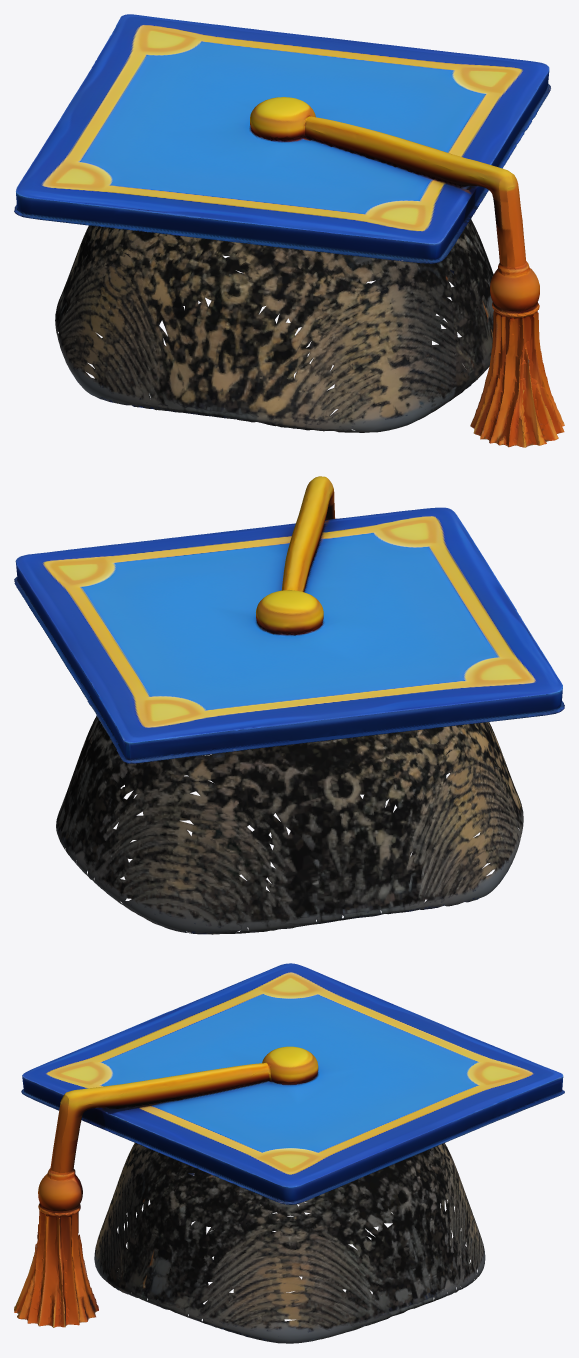
File: Graduation Cap.fbx
3 renders of one model, top to bottom at view 1: azimuth 30°, elevation 25°; view 2: azimuth 150°, elevation 25°; view 3: azimuth 270°, elevation 25°, orthographic. The views are drawn at different scales.
Visible parts, largest first — view 1: Graduation Cap; view 2: Graduation Cap; view 3: Graduation Cap.
Part boxes in pixels (x1,y1,x2,y2): Graduation Cap: [14, 14, 564, 447]; Graduation Cap: [14, 476, 564, 934]; Graduation Cap: [14, 963, 564, 1343].
Size of the model in its own units: 63.67 by 28.68 by 65.92.
